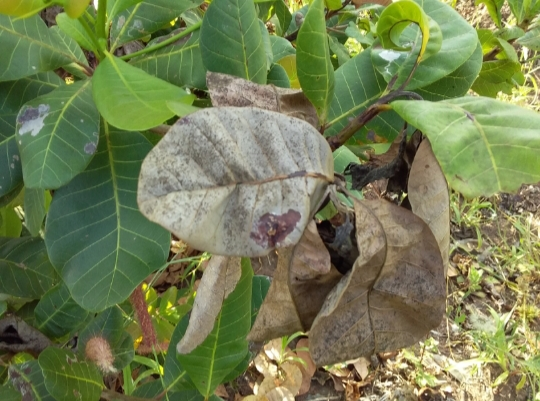Dessèchement des bourgeons: (304, 195, 445, 365), (347, 137, 419, 187), (389, 60, 420, 101)
